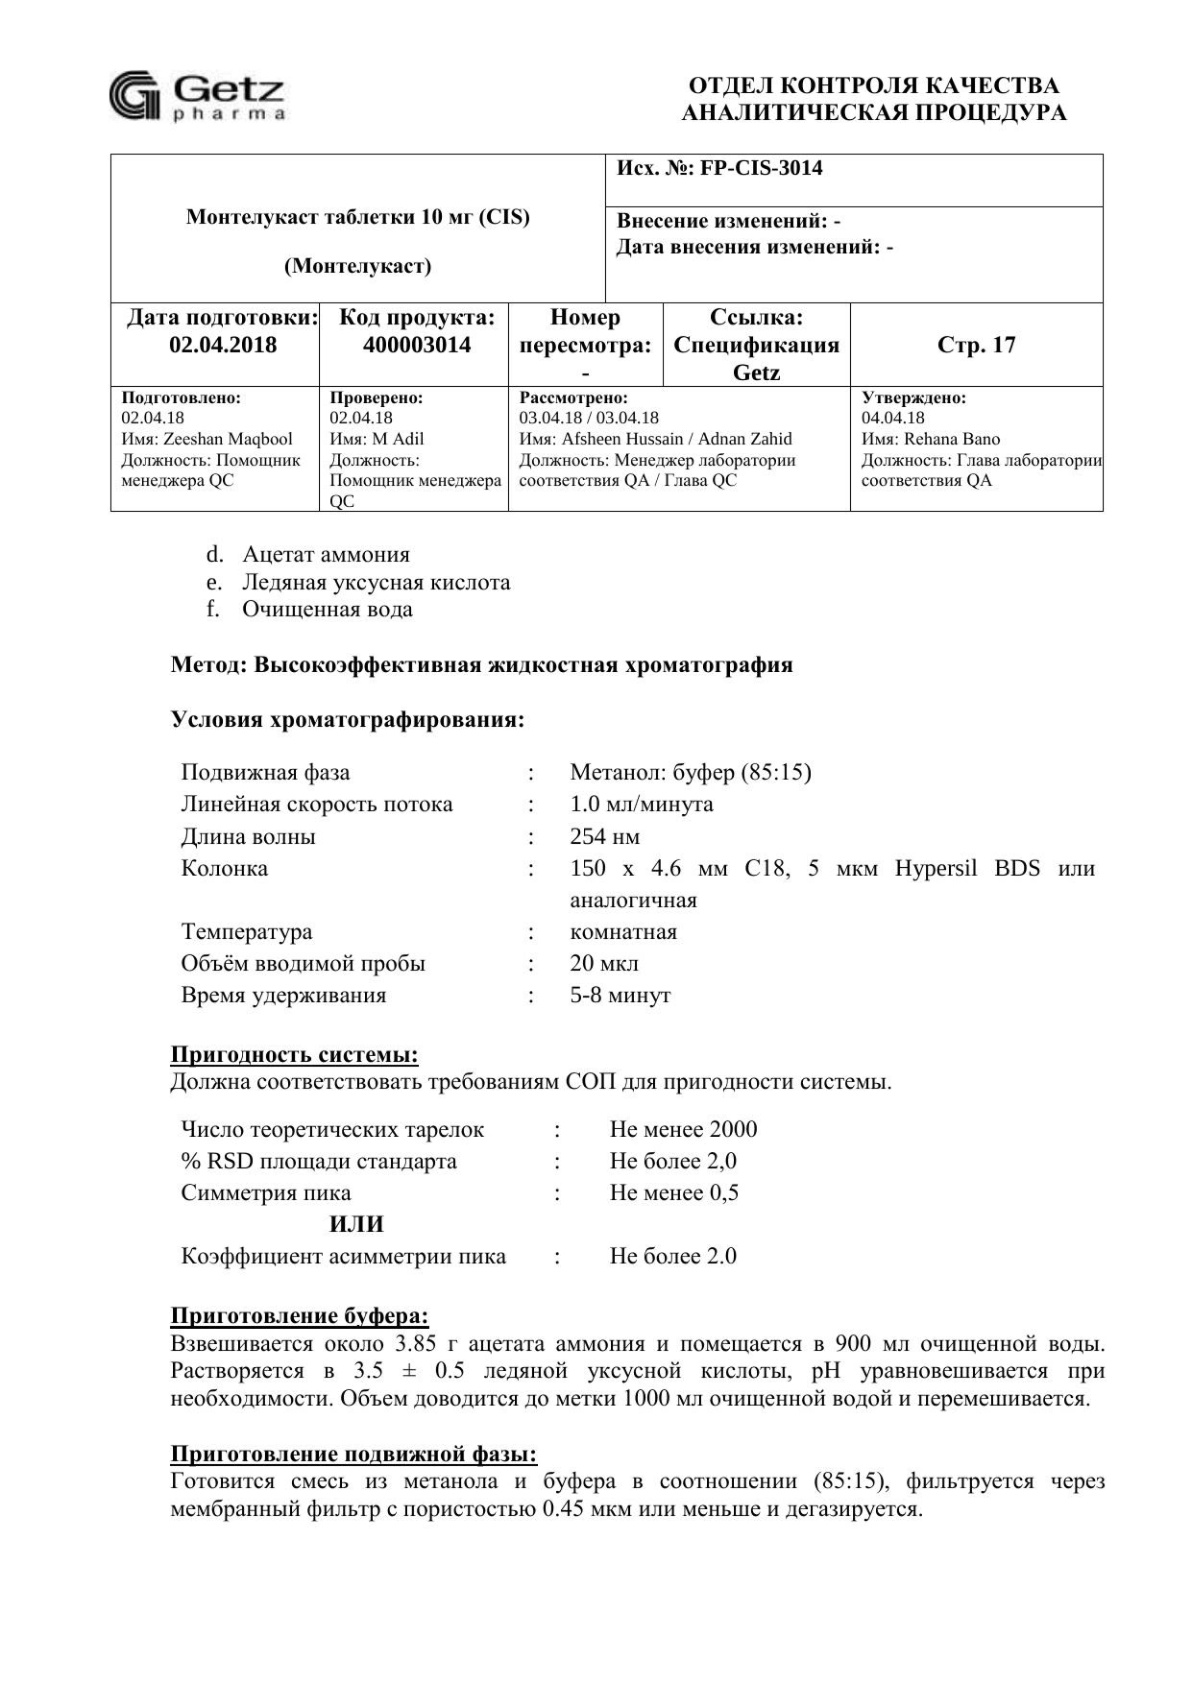full_lined: (110, 153, 1106, 513)
nolines: (177, 752, 1100, 1011), (175, 1114, 760, 1273)
